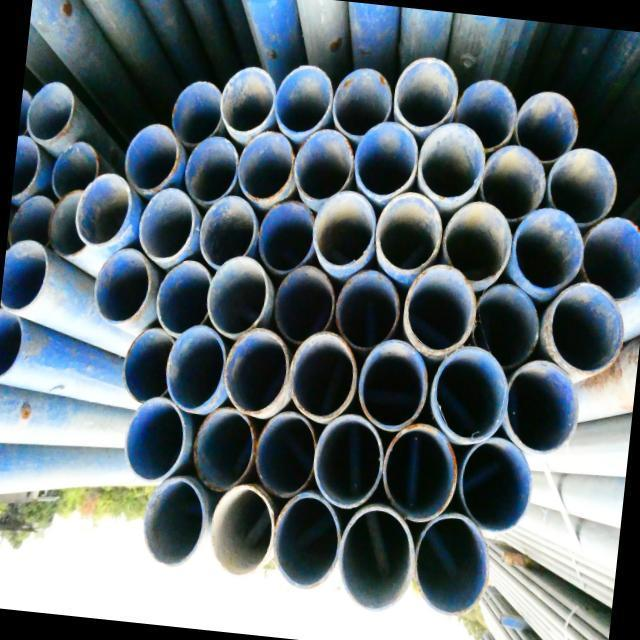pipe: (334, 502, 422, 616), (409, 506, 495, 622), (426, 340, 514, 450), (376, 420, 464, 528), (454, 432, 537, 538), (544, 277, 629, 378), (500, 356, 584, 458), (398, 259, 482, 360), (307, 409, 388, 513), (268, 486, 346, 593), (352, 333, 432, 436), (508, 204, 590, 301), (285, 326, 362, 426), (138, 471, 212, 573), (468, 278, 545, 376), (218, 322, 294, 420), (204, 480, 279, 579), (438, 197, 516, 291), (188, 402, 260, 498), (329, 265, 404, 357), (120, 392, 192, 487), (544, 142, 620, 232), (250, 406, 321, 502), (160, 320, 230, 417), (202, 250, 274, 344), (414, 120, 488, 207), (308, 185, 380, 274), (476, 141, 550, 227), (350, 116, 422, 204), (372, 190, 445, 276), (270, 260, 338, 350), (511, 87, 584, 169), (390, 52, 461, 136), (577, 212, 640, 305), (450, 74, 520, 157), (150, 254, 217, 340), (90, 244, 156, 328), (290, 124, 357, 206), (195, 191, 261, 274), (254, 195, 318, 278), (234, 126, 298, 208), (329, 64, 395, 143), (270, 61, 336, 140), (72, 168, 135, 250), (136, 184, 198, 266), (119, 322, 178, 407), (120, 120, 182, 198), (180, 132, 242, 210), (217, 63, 278, 138), (168, 77, 225, 150)
